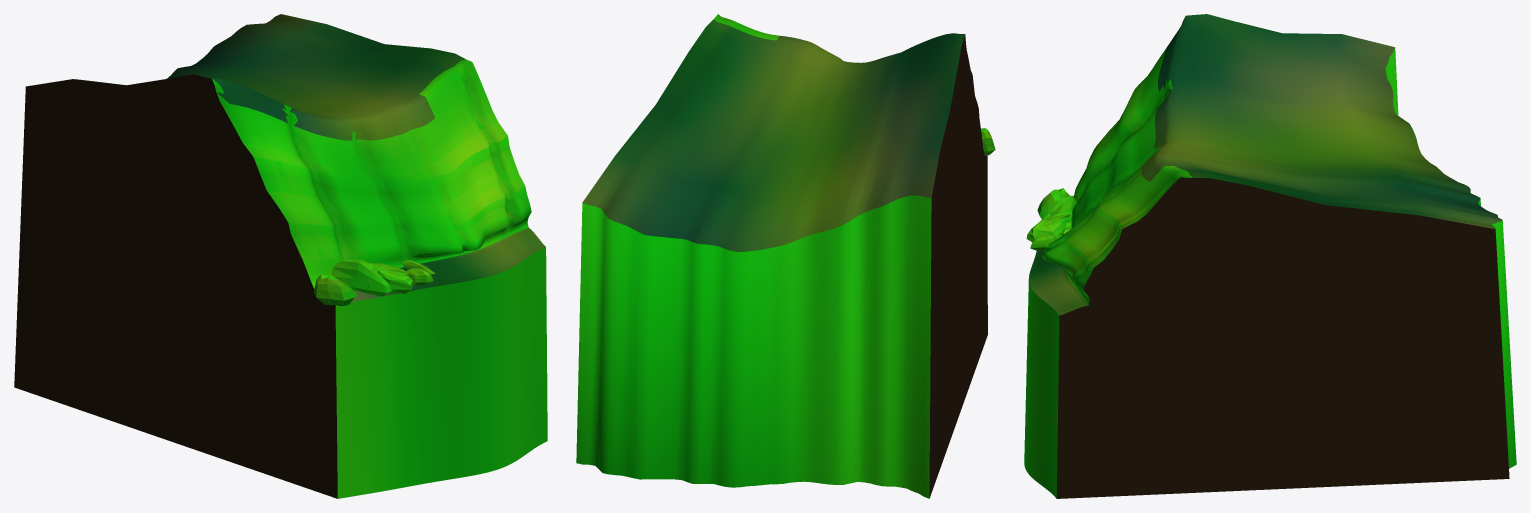
File: SM_ForestRisingCliffs_12.fbx
3 renders of one model, left to right at view 1: azimuth 30°, elevation 25°; view 2: azimuth 150°, elevation 25°; view 3: azimuth 270°, elevation 25°, orthographic. The views are drawn at different scales.
Parts seen in each view (by area): view 1: SM_ForestRisingCliffs_12; view 2: SM_ForestRisingCliffs_12; view 3: SM_ForestRisingCliffs_12.
Part boxes in pixels (box(x1,y1,x2,y2)): SM_ForestRisingCliffs_12: box(14, 14, 547, 498); SM_ForestRisingCliffs_12: box(576, 14, 995, 498); SM_ForestRisingCliffs_12: box(1024, 14, 1516, 498).
Bounding box in the file's own units: 46.41 × 59.83 × 48.15.
